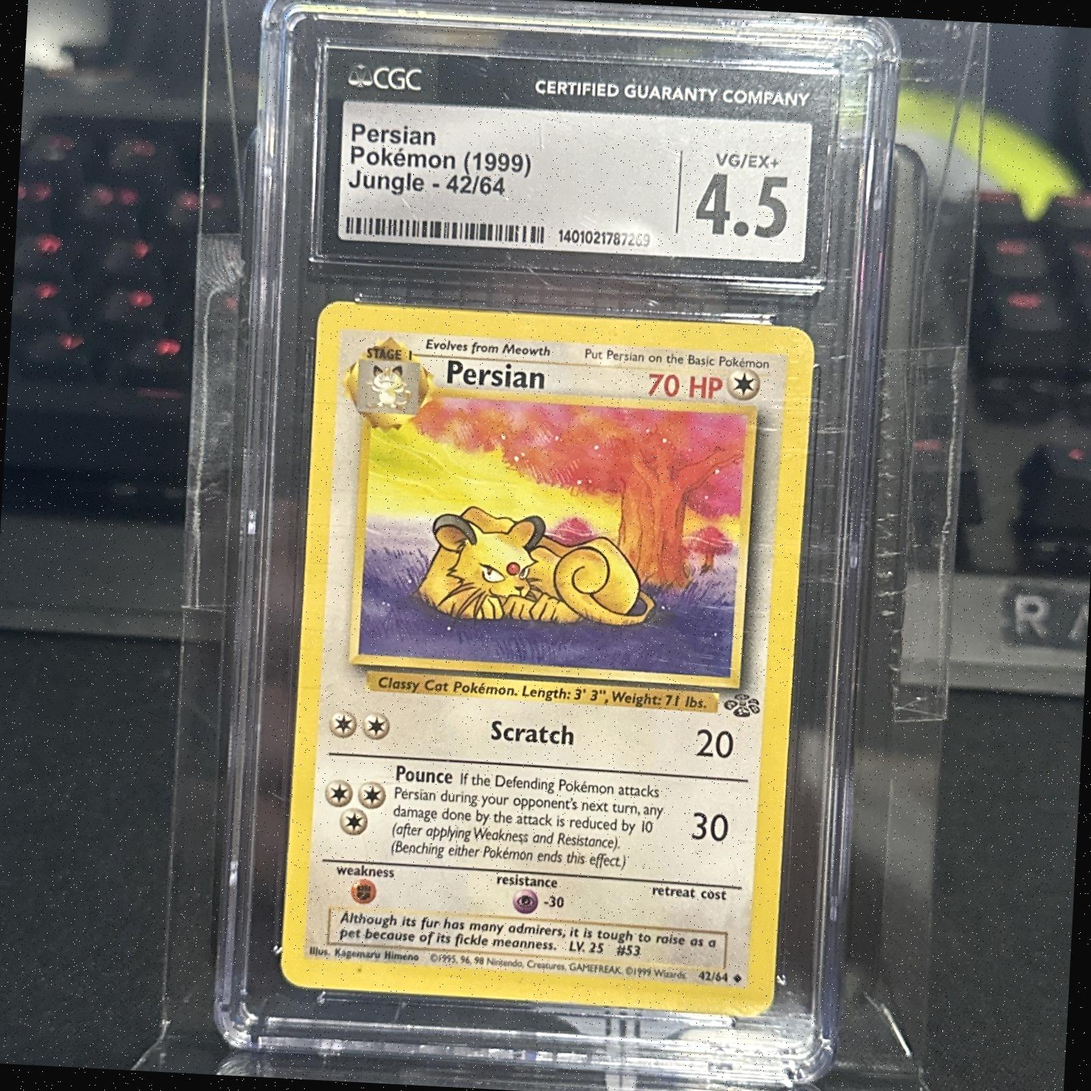card-2UtV: (280, 300, 815, 1017)
